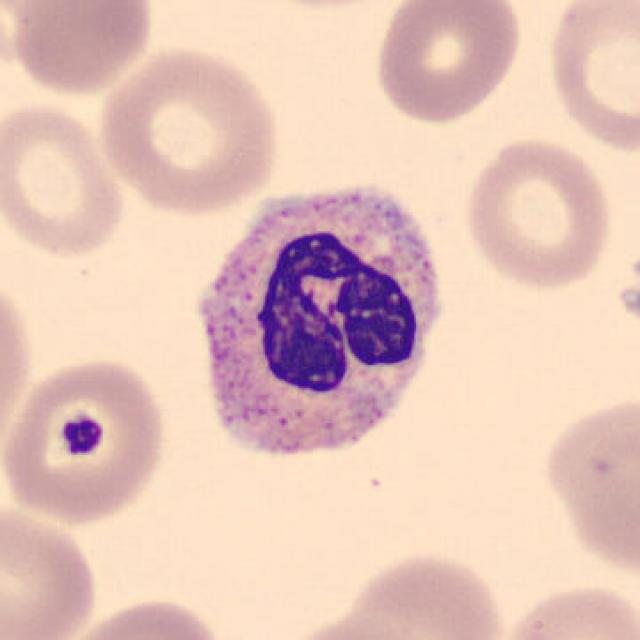Neutrophil: (179, 169, 457, 483)
Platelets: (52, 410, 108, 458)
RBC: (93, 40, 284, 218), (0, 352, 172, 529), (459, 134, 617, 293), (0, 97, 130, 263), (535, 388, 640, 583), (370, 0, 524, 127), (320, 546, 510, 640), (2, 0, 162, 99), (542, 0, 638, 159), (0, 500, 103, 640), (492, 578, 638, 640), (50, 592, 231, 640), (0, 266, 36, 467), (265, 608, 451, 640), (238, 0, 411, 14)
